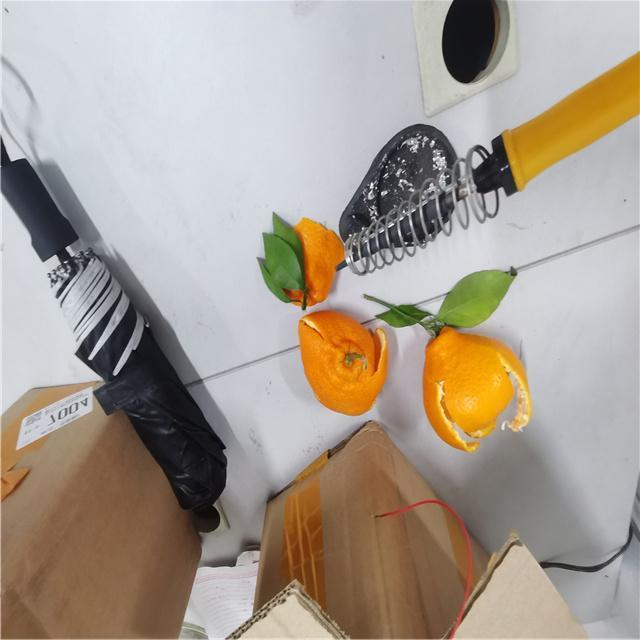orange peel: (414, 324, 535, 453), (287, 306, 397, 430), (248, 213, 354, 308)
